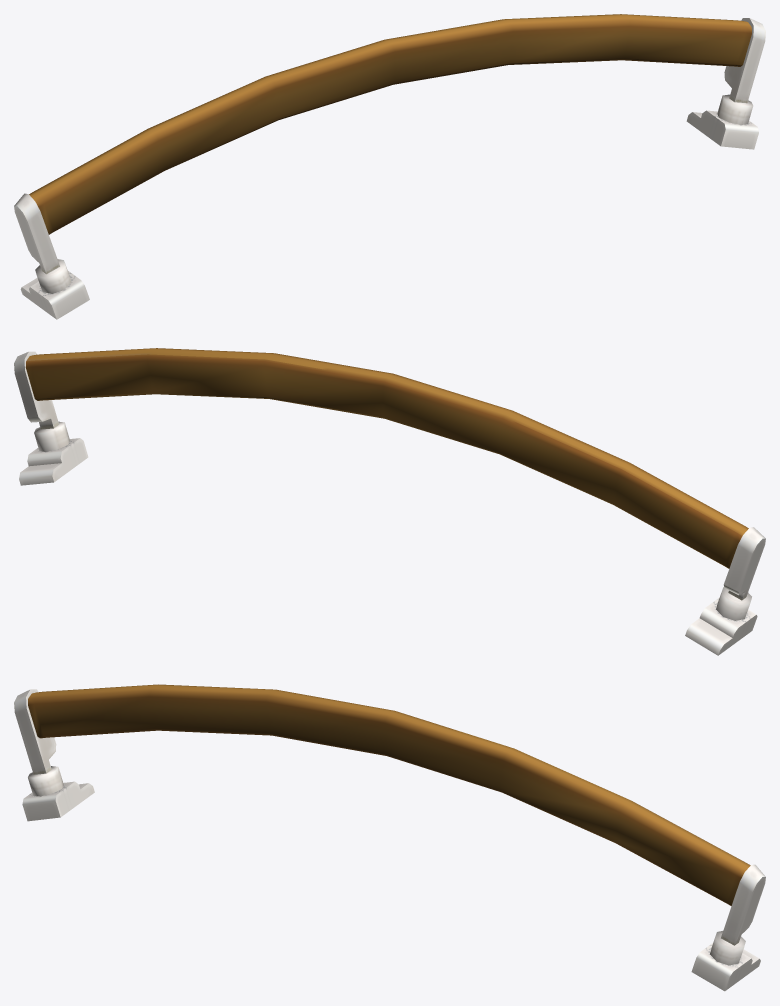
File: BentBarB.fbx
3 renders of one model, top to bottom at view 1: azimuth 30°, elevation 25°; view 2: azimuth 150°, elevation 25°; view 3: azimuth 330°, elevation 25°, orthographic.
Parts seen in each view (by area): view 1: HandBar_A.005; view 2: HandBar_A.005; view 3: HandBar_A.005.
Part boxes in pixels (<box>): HandBar_A.005: <box>14,14,765,319</box>; HandBar_A.005: <box>14,348,765,655</box>; HandBar_A.005: <box>14,684,765,991</box>.
Size of the model in its own units: 91.12 by 21.35 by 7.26.
